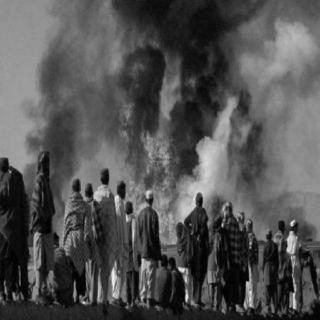Fire: (120, 35, 188, 238)
Smoke: (185, 6, 312, 200)
